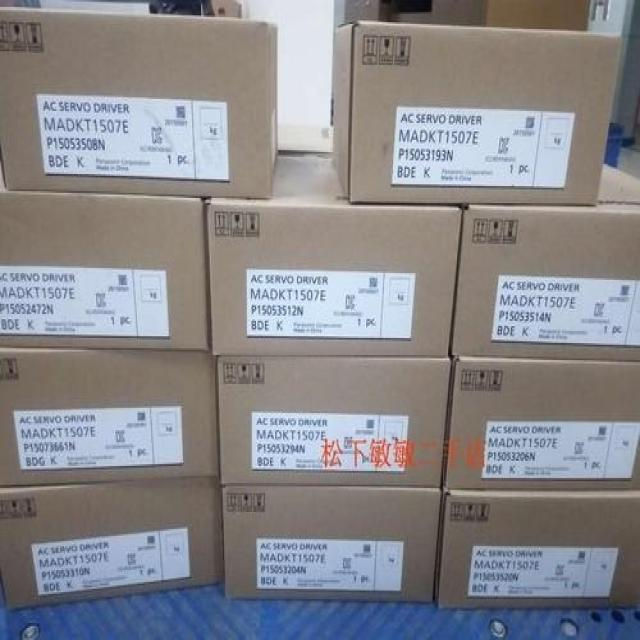box: (0, 5, 279, 200), (333, 20, 621, 207), (205, 152, 463, 357), (0, 155, 209, 352), (452, 164, 640, 362), (218, 357, 452, 488), (0, 346, 220, 485), (0, 478, 224, 611), (440, 358, 640, 490), (223, 486, 440, 602), (434, 490, 640, 609), (358, 0, 591, 31), (280, 123, 332, 154), (148, 0, 242, 17)
